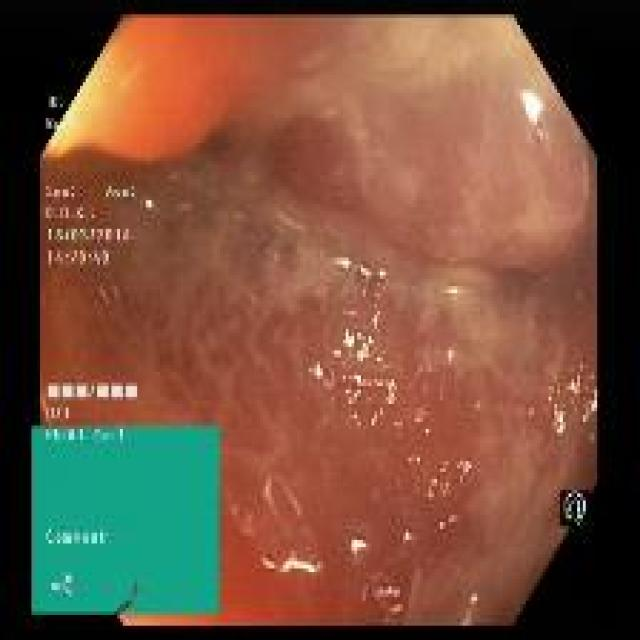ulcerative-colitis: (41, 19, 596, 623)
